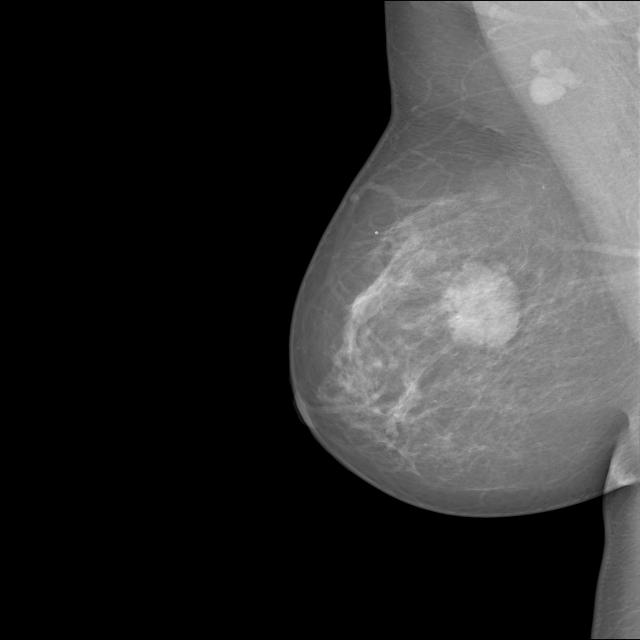Mass_1: (412, 236, 558, 371)
